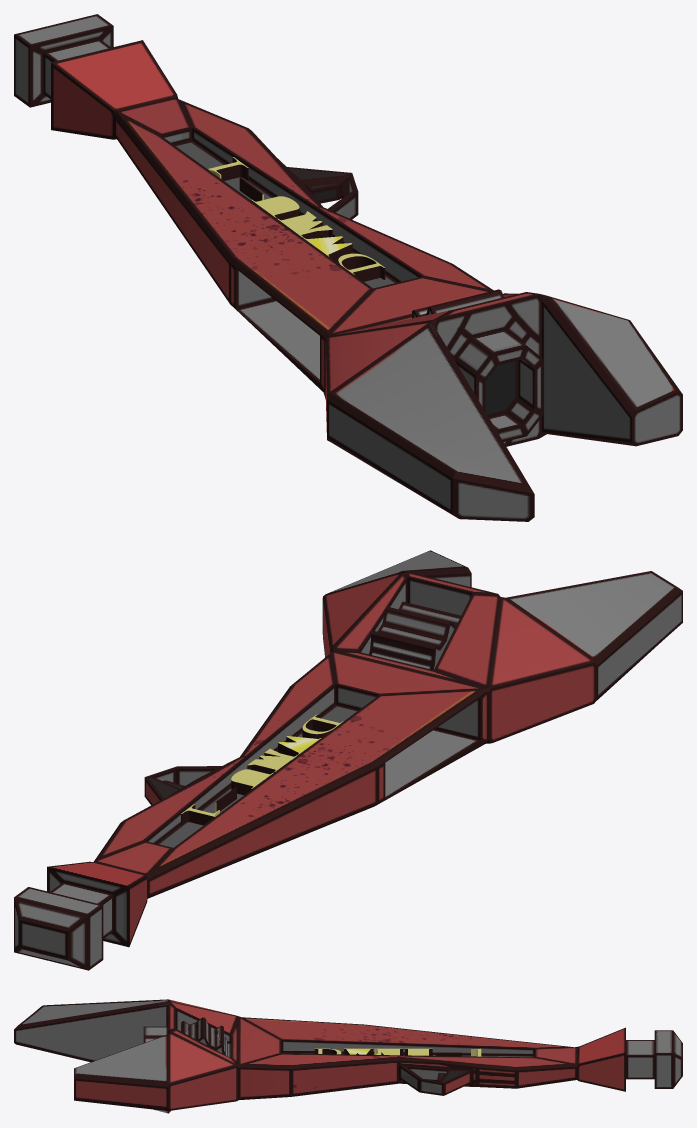
The model's file is DWMU.fbx.
3 renders of one model, top to bottom at view 1: azimuth 30°, elevation 25°; view 2: azimuth 150°, elevation 25°; view 3: azimuth 270°, elevation 25°, orthographic. The views are drawn at different scales.
Parts seen in each view (by area): view 1: DWMU1; view 2: DWMU1; view 3: DWMU1.
Part boxes in pixels (<box>): DWMU1: <box>14,14,682,521</box>; DWMU1: <box>14,550,682,970</box>; DWMU1: <box>14,999,682,1113</box>.
Bounding box in the file's own units: 0.8835 × 0.3967 × 2.91.
1 material, 1 textured.
